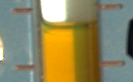border: (97, 60, 126, 68), (96, 3, 124, 11), (13, 64, 36, 72), (11, 7, 35, 14)
liquidlevel: (40, 20, 100, 31)
